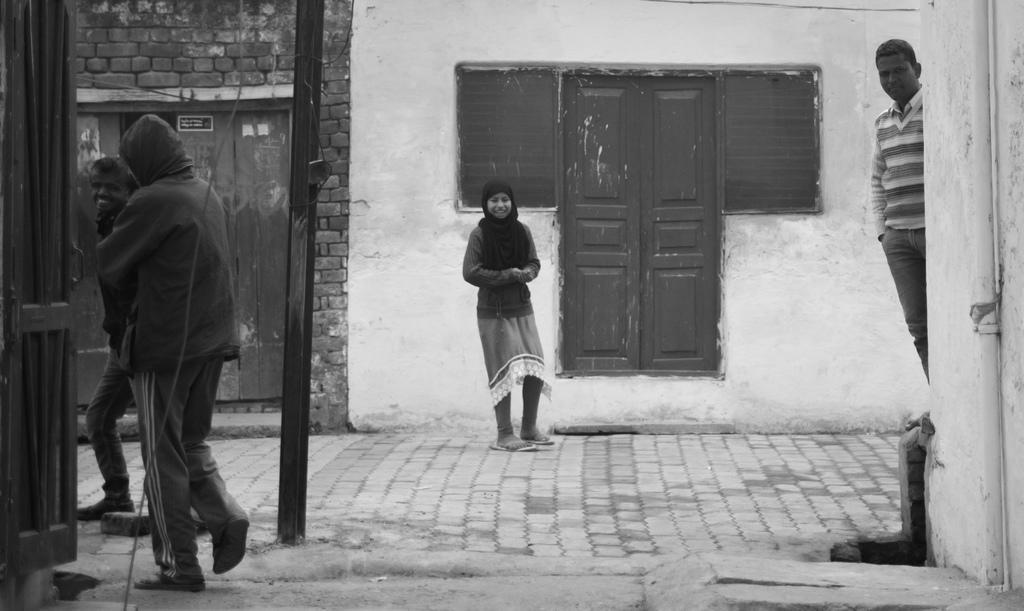door: (563, 88, 645, 368), (644, 88, 714, 342)
